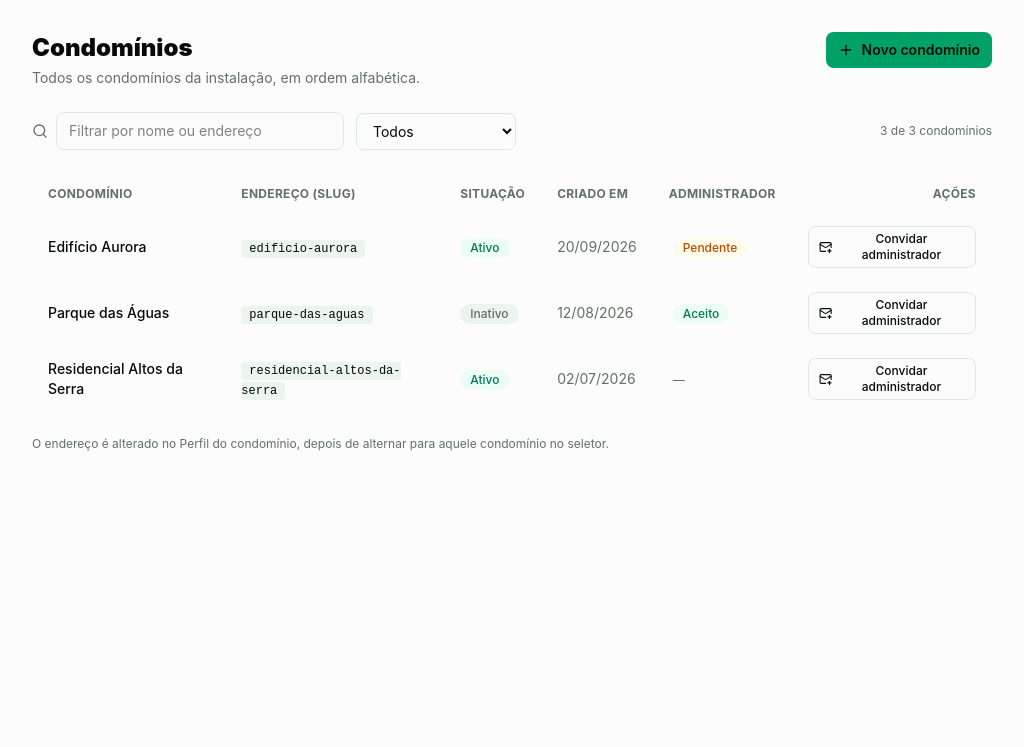
Test: TenantsAdminPage — inviting an administrator › posts { tenant_id, email } from the row action and renders the 201 success state
Click the button "Convidar administrador" in the row of "Edifício Aurora".
click(892, 247)  # box left=808, top=226, right=976, bottom=268
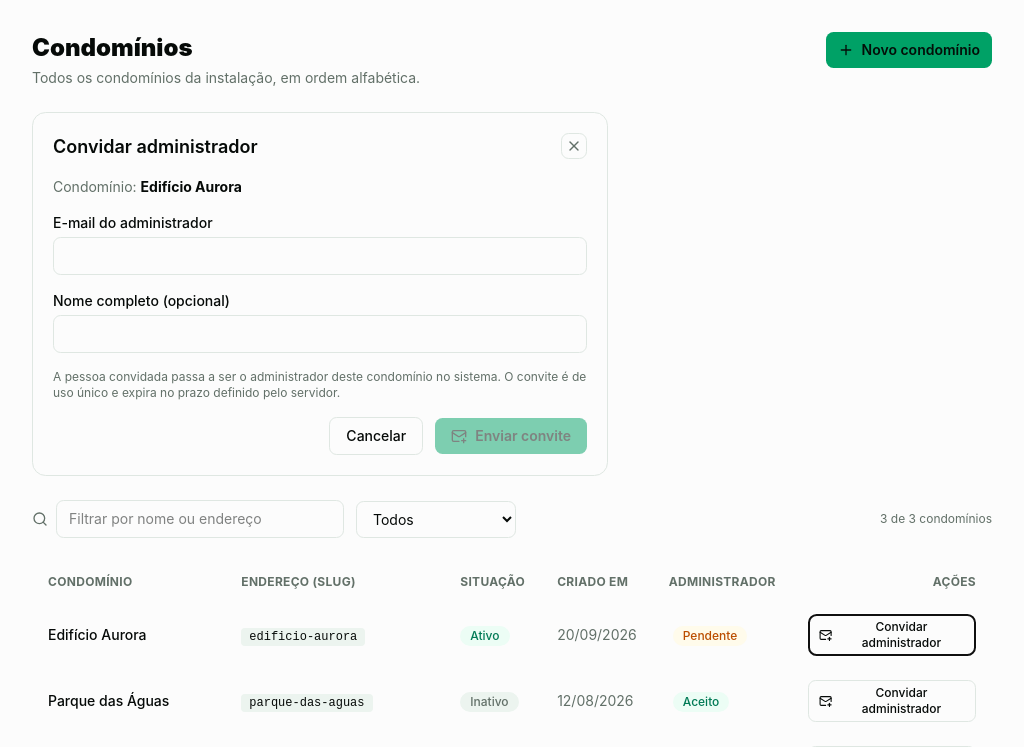
Type "ana.souza@example.com" into the field labelled "E-mail do administrador".
click(320, 256); type("ana.souza@example.com")  # box left=53, top=237, right=587, bottom=275
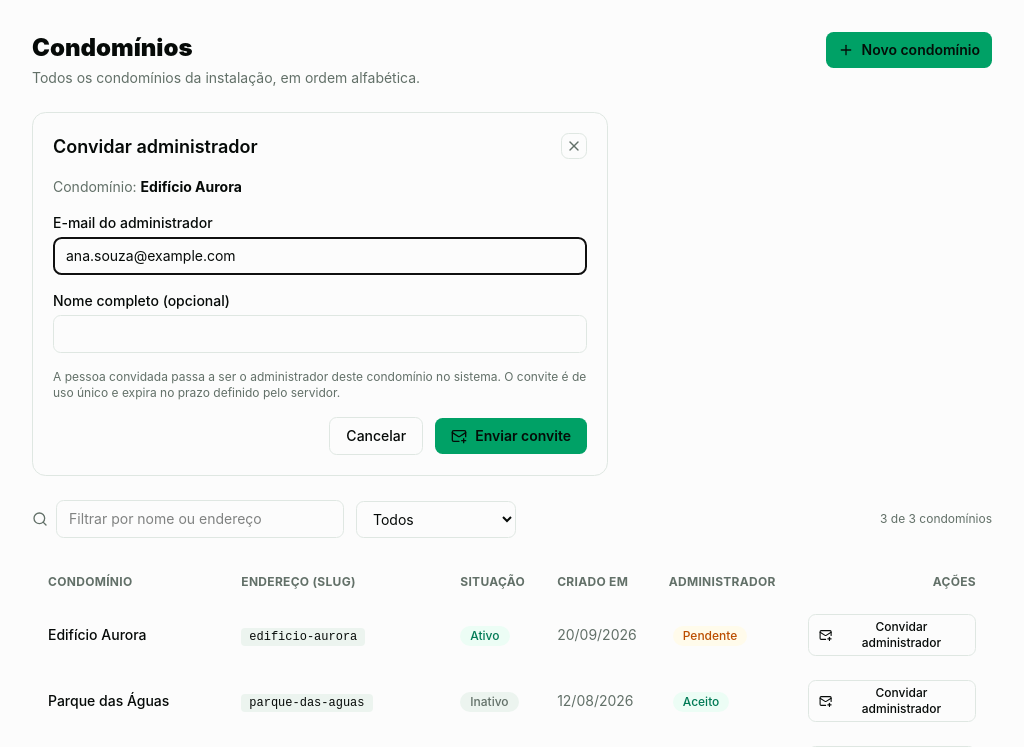
Click the button "Enviar convite".
click(511, 436)  # box left=435, top=418, right=587, bottom=454
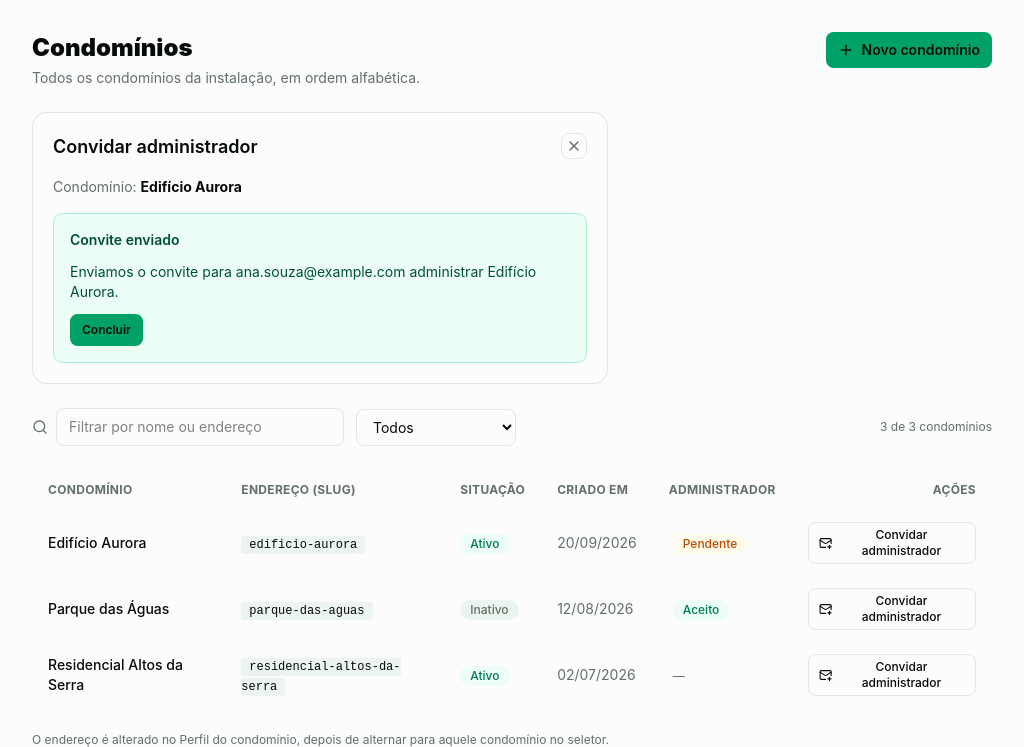
Check: the element with test id "invitation-sent" shows "ana.souza@example.com", box left=70, top=263, right=536, bottom=300
Check: the element with test id "invitation-sent" shows "Edifício Aurora", box left=70, top=263, right=536, bottom=300
